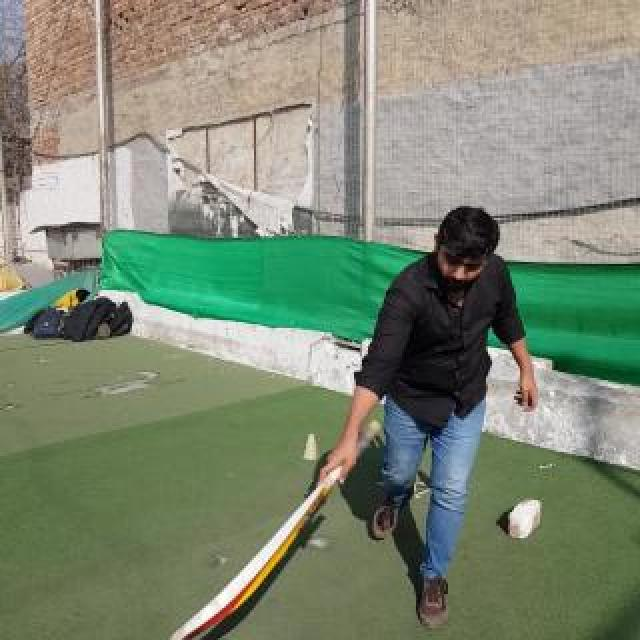bat: (169, 418, 381, 640)
